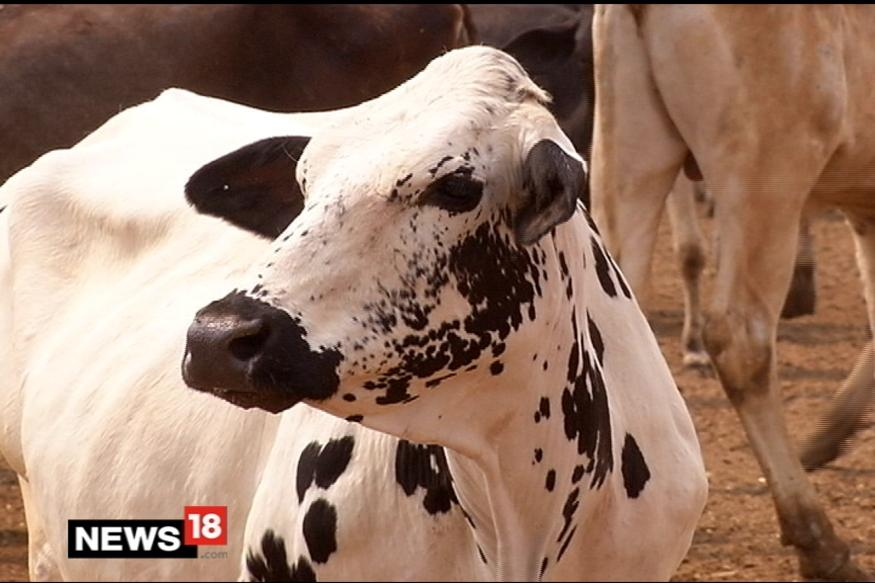muzzles: (172, 296, 336, 424)
